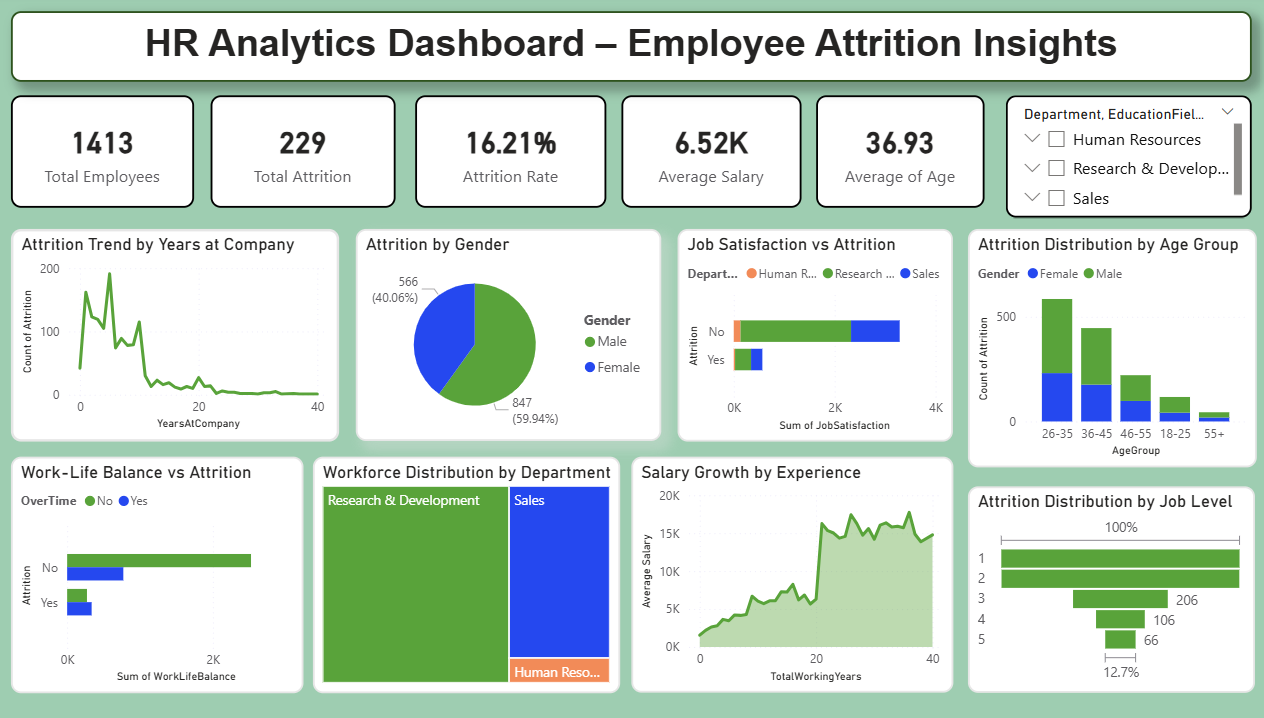

What the dashboard file says about the page in this screenshot:
{"tool":"powerbi","page":{"name":"Page 1","canvas":[1280,720],"ordinal":0},"visuals":[{"type":"card","fields":{"Values":["hr-dataset.Total Employees"]},"box":[37.4,100.9,180.6,110.6],"z":0},{"type":"card","fields":{"Values":["hr-dataset.Total Attrition"]},"box":[234.3,100.9,182.2,110.6],"z":1000},{"type":"card","fields":{"Values":["hr-dataset.Attrition Rate"]},"box":[436.1,100.9,188.7,110.6],"z":2000},{"type":"card","fields":{"Values":["hr-dataset.Average Salary"]},"box":[639.5,100.9,177.4,110.6],"z":3000},{"type":"card","fields":{"Values":["Avg(hr-dataset.Age)"]},"box":[831.5,100.9,166,110.6],"z":4000},{"type":"pieChart","title":"Attrition by Gender","fields":{"Category":["hr-dataset.Gender"],"Y":["CountNonNull(hr-dataset.Attrition)"]},"box":[378.2,233.2,301.1,209.3],"z":6000},{"type":"lineChart","title":"Attrition Trend by Years at Company","fields":{"Category":["hr-dataset.YearsAtCompany"],"Y":["CountNonNull(hr-dataset.Attrition)"]},"box":[37.4,232.7,323.8,209.9],"z":6001},{"type":"columnChart","title":"Attrition Distribution by Age Group","fields":{"Category":["hr-dataset.AgeGroup"],"Series":["hr-dataset.Gender"],"Y":["CountNonNull(hr-dataset.Attrition)"]},"box":[980.4,233.2,284.6,235],"z":6002},{"type":"treemap","title":"Workforce Distribution by Department","fields":{"Group":["hr-dataset.Department"],"Values":["hr-dataset.Total Employees"]},"box":[336,457.1,302.9,233.2],"z":6003},{"type":"barChart","title":"Job Satisfaction vs Attrition","fields":{"Category":["hr-dataset.Attrition"],"Series":["hr-dataset.Department"],"Y":["Sum(hr-dataset.JobSatisfaction)"]},"box":[694.8,232.7,271.7,209.9],"z":6004},{"type":"areaChart","title":"Salary Growth by Experience","fields":{"Category":["hr-dataset.TotalWorkingYears"],"Y":["hr-dataset.Average Salary"]},"box":[649.2,457.2,317.3,232.7],"z":6005},{"type":"clusteredBarChart","title":"Work-Life Balance vs Attrition","fields":{"Category":["hr-dataset.Attrition"],"Series":["hr-dataset.OverTime"],"Y":["Sum(hr-dataset.WorkLifeBalance)"]},"box":[36.7,457.1,288.2,233.2],"z":6006},{"type":"funnel","title":"Attrition Distribution by Job Level","fields":{"Category":["hr-dataset.JobLevel"],"Y":["CountNonNull(hr-dataset.Attrition)"]},"box":[981.2,486.5,283.1,203.4],"z":6007},{"type":"textbox","box":[37.4,17.9,1223.6,70],"z":6008},{"type":"slicer","fields":{"Values":["hr-dataset.Department","hr-dataset.EducationField","hr-dataset.JobRole","hr-dataset.Gender"]},"box":[1018.6,100.9,242.4,120.4],"z":6009}]}

Visuals, with their boxes in screenshot pixels (x1, y1, x2, y2), scaled from the page's 1280x720 canvas onto the 1264x718 screenshot:
card - hr-dataset.Total Employees: <box>37,101,215,211</box>
card - hr-dataset.Total Attrition: <box>231,101,411,211</box>
card - hr-dataset.Attrition Rate: <box>431,101,617,211</box>
card - hr-dataset.Average Salary: <box>632,101,807,211</box>
card - Avg(hr-dataset.Age): <box>821,101,985,211</box>
"Attrition by Gender" pieChart: <box>373,233,671,441</box>
"Attrition Trend by Years at Company" lineChart: <box>37,232,357,441</box>
"Attrition Distribution by Age Group" columnChart: <box>968,233,1249,467</box>
"Workforce Distribution by Department" treemap: <box>332,456,631,688</box>
"Job Satisfaction vs Attrition" barChart: <box>686,232,954,441</box>
"Salary Growth by Experience" areaChart: <box>641,456,954,688</box>
"Work-Life Balance vs Attrition" clusteredBarChart: <box>36,456,321,688</box>
"Attrition Distribution by Job Level" funnel: <box>969,485,1248,688</box>
textbox: <box>37,18,1245,88</box>
slicer - hr-dataset.Department x hr-dataset.EducationField: <box>1006,101,1245,221</box>
